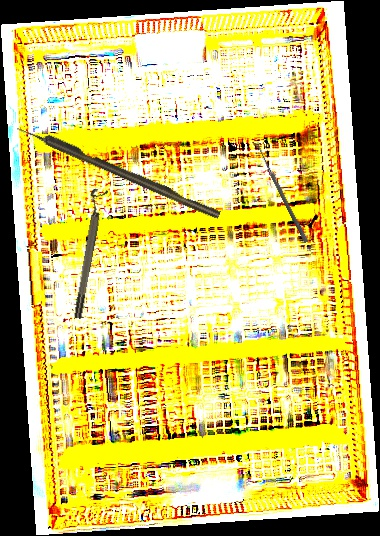Fixation Ring: (66, 187, 109, 320)
Hook Surgical: (15, 121, 222, 221)
Surgical Spoon: (254, 141, 309, 244)
